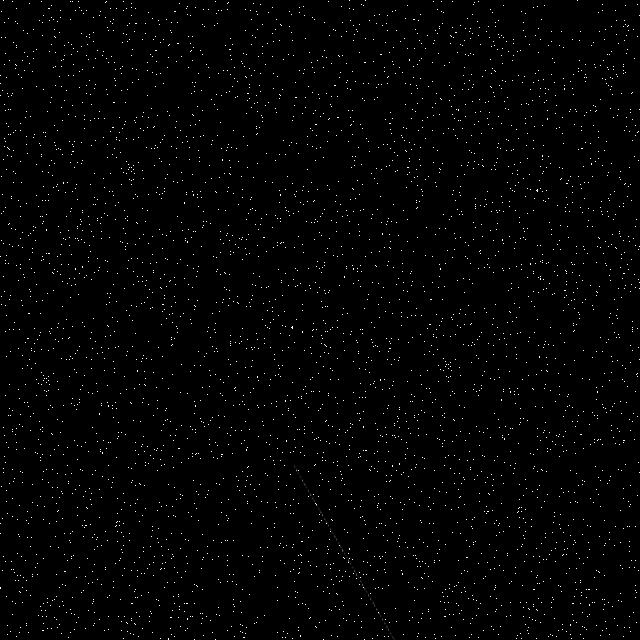drone: (294, 281, 640, 640)
